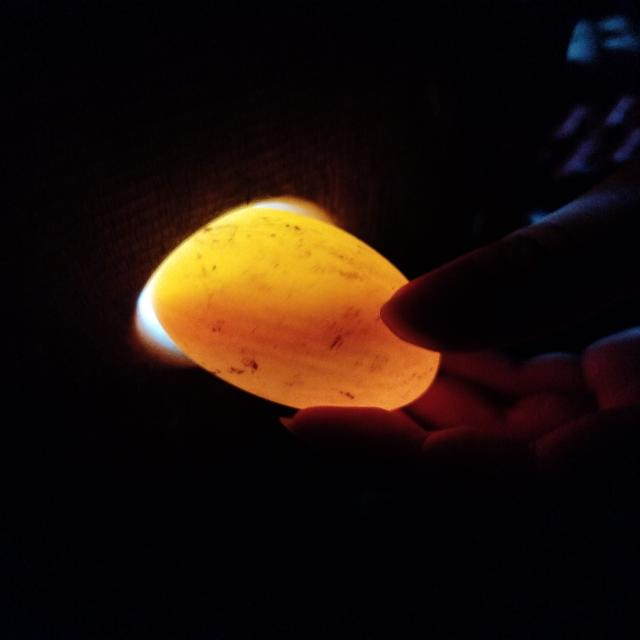Gema Quebrada: (158, 295, 417, 364)
